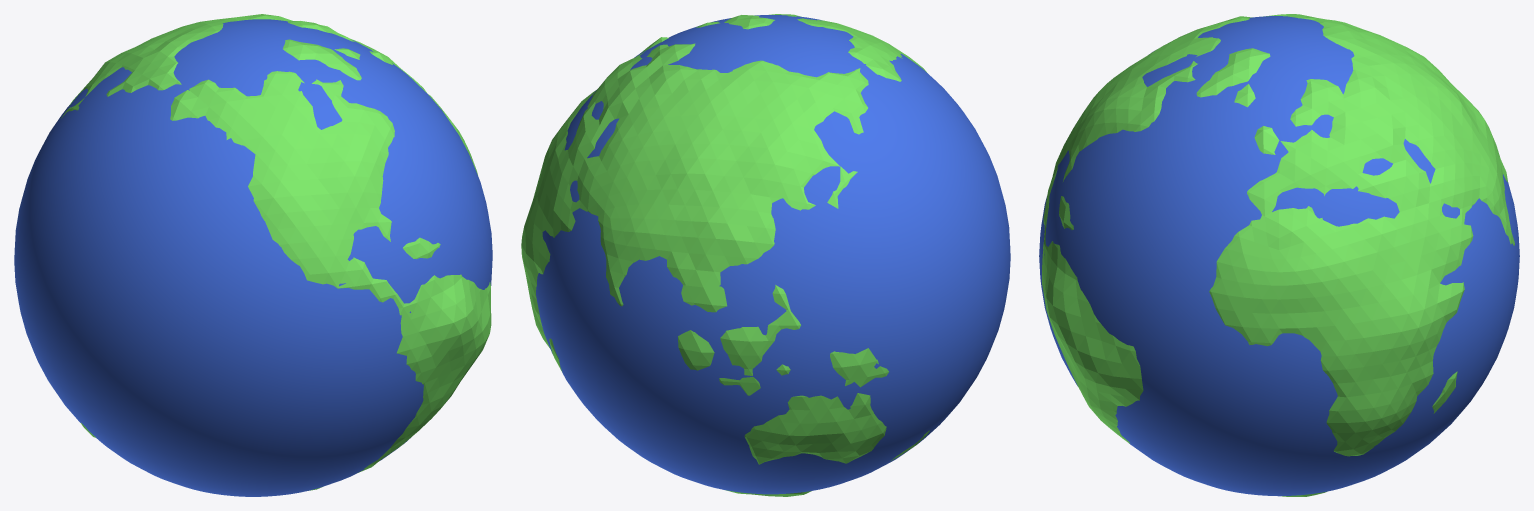
The model's file is earth.fbx.
3 renders of one model, left to right at view 1: azimuth 30°, elevation 25°; view 2: azimuth 150°, elevation 25°; view 3: azimuth 270°, elevation 25°, orthographic.
Parts seen in each view (by area): view 1: Sphere, Icosphere; view 2: Sphere, Icosphere; view 3: Sphere, Icosphere.
Part boxes in pixels (bbox=[...]): Sphere: bbox=[14, 19, 492, 496]; Icosphere: bbox=[61, 14, 491, 490]; Sphere: bbox=[536, 15, 1010, 494]; Icosphere: bbox=[521, 14, 929, 496]; Sphere: bbox=[1039, 16, 1519, 496]; Icosphere: bbox=[1042, 14, 1514, 496].
Size of the model in its own units: 1000 by 1013 by 1000.
